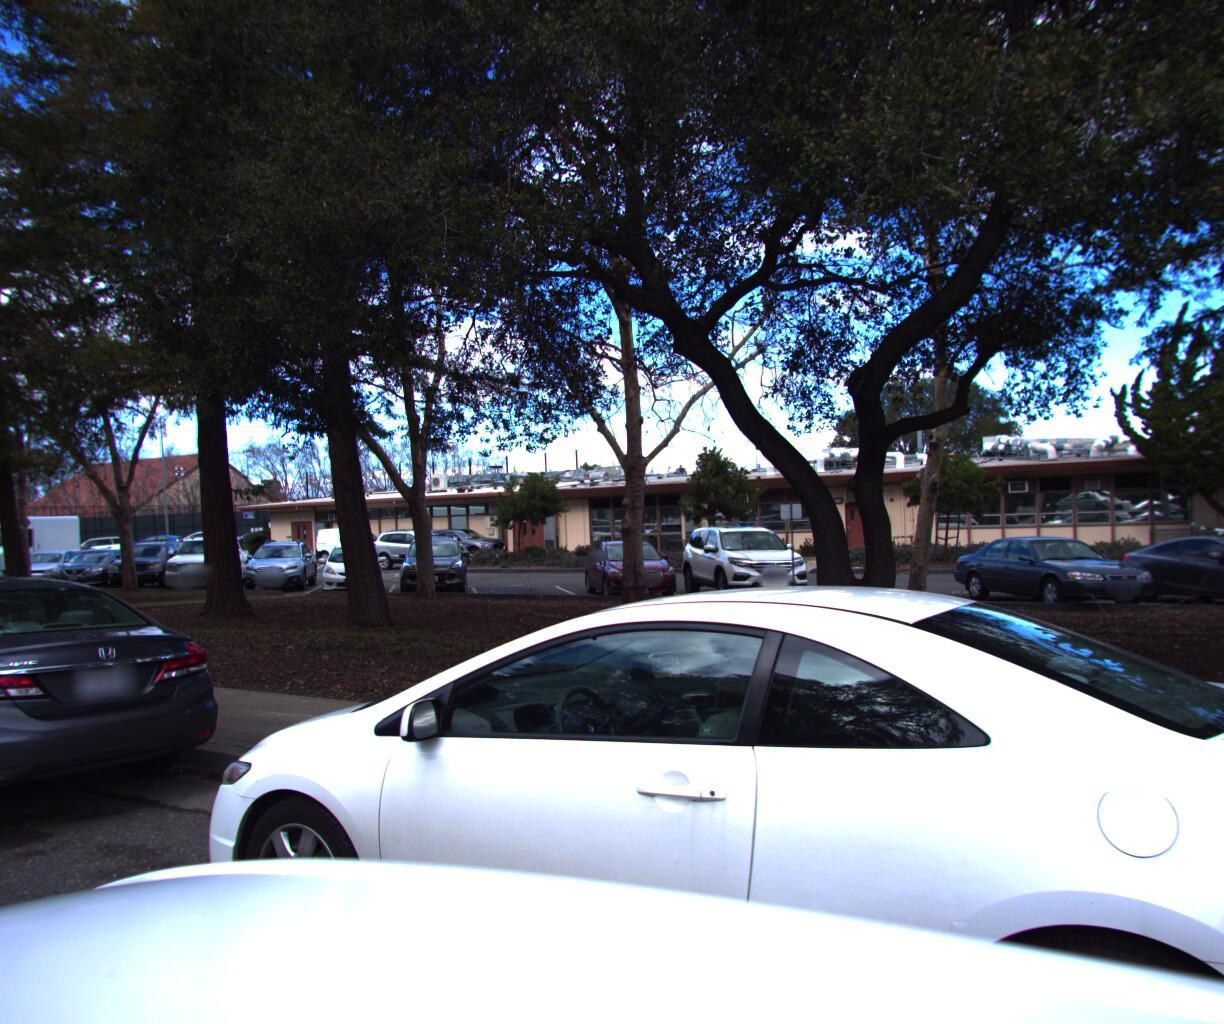car: (106, 562, 1224, 1024), (0, 563, 241, 875)
